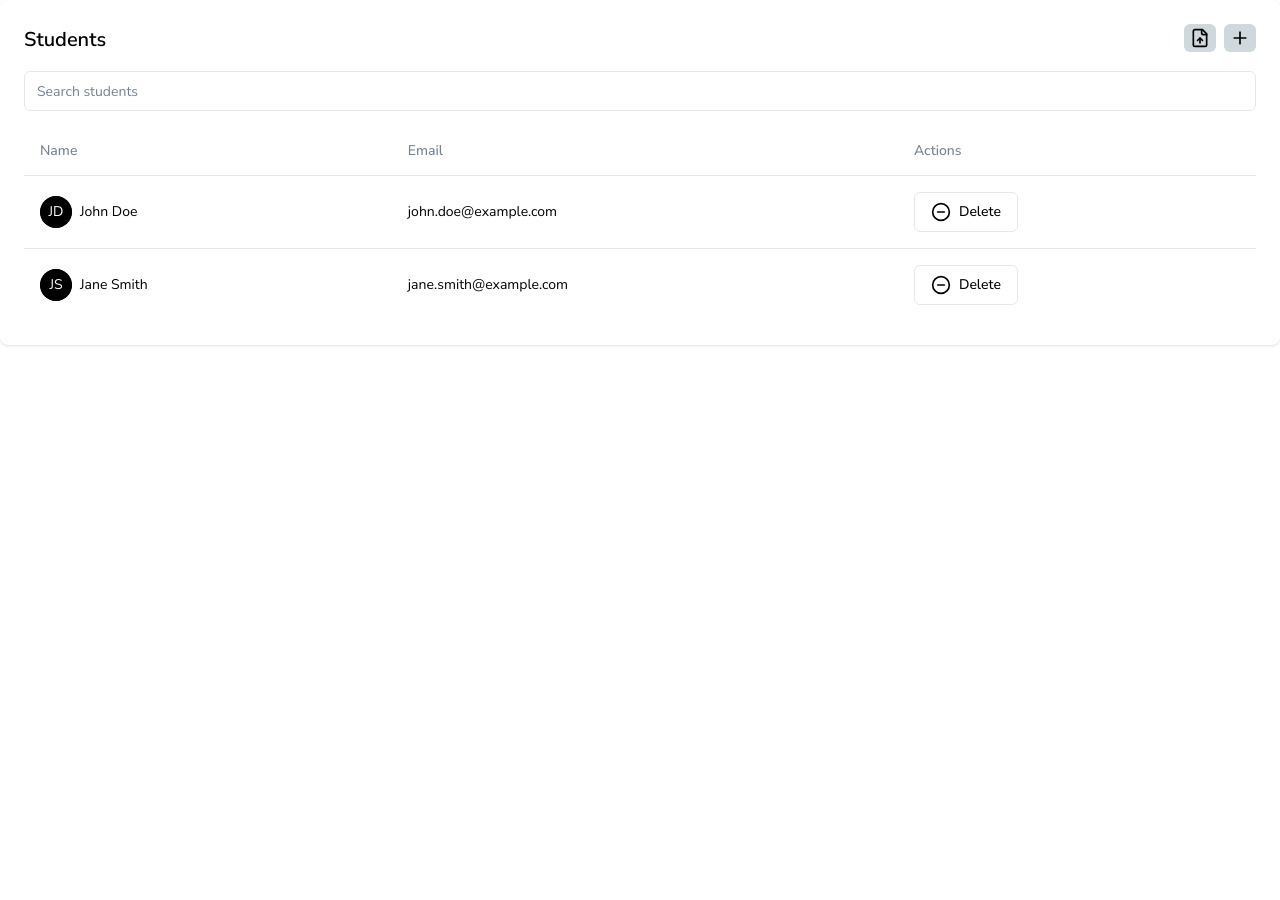
Test: StudentsTable Component › opens delete dialog on delete button click
The width and height of the screenshot is (1280, 900).
What coordinates should you click on to do the following:
click the button "Delete" in the row of "JD"
I would click on:
 (966, 212)
Its box is [914,192,1018,232].
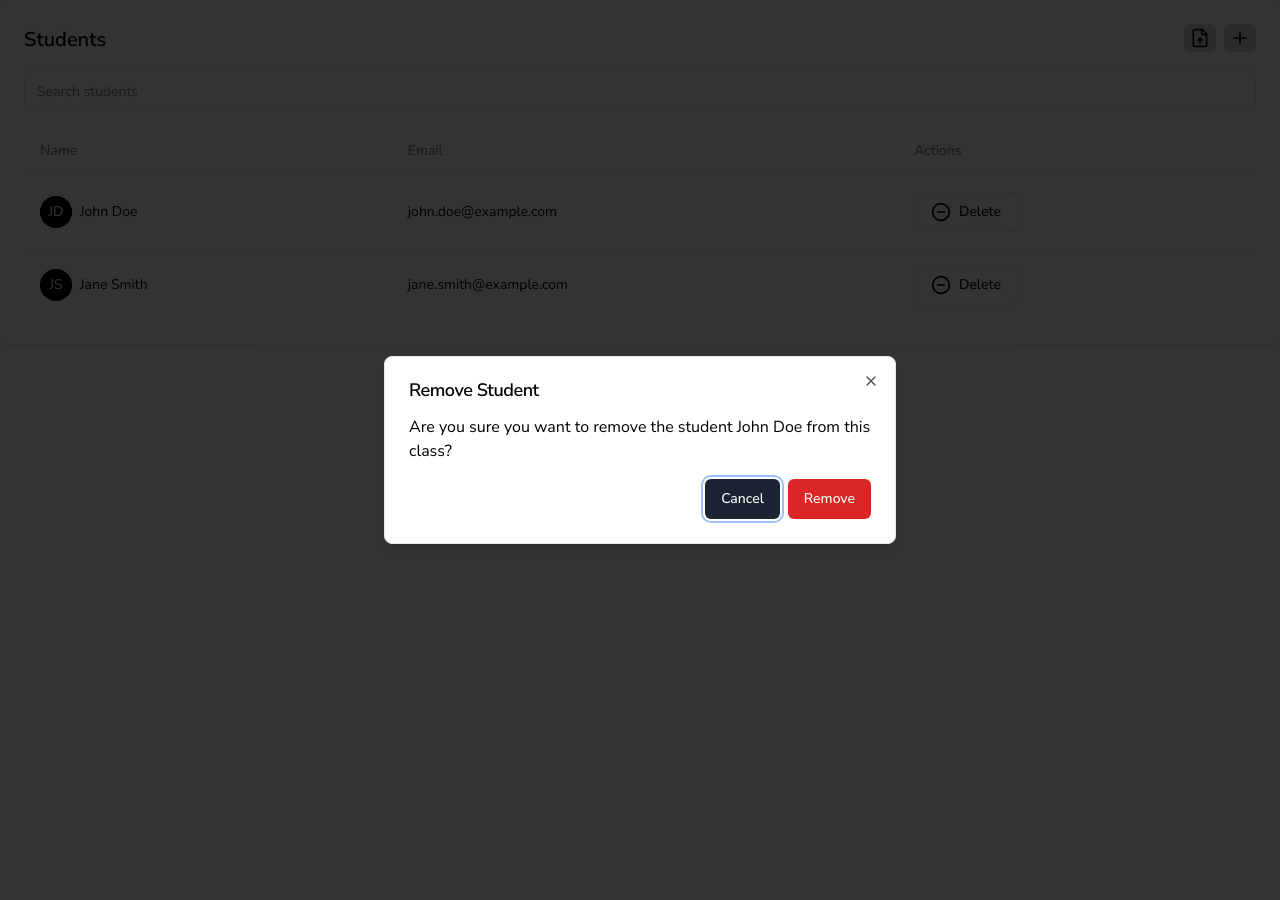
Result: the text "Are you sure you want to remove the student John Doe from this class?" is shown at [384,356,896,544]
